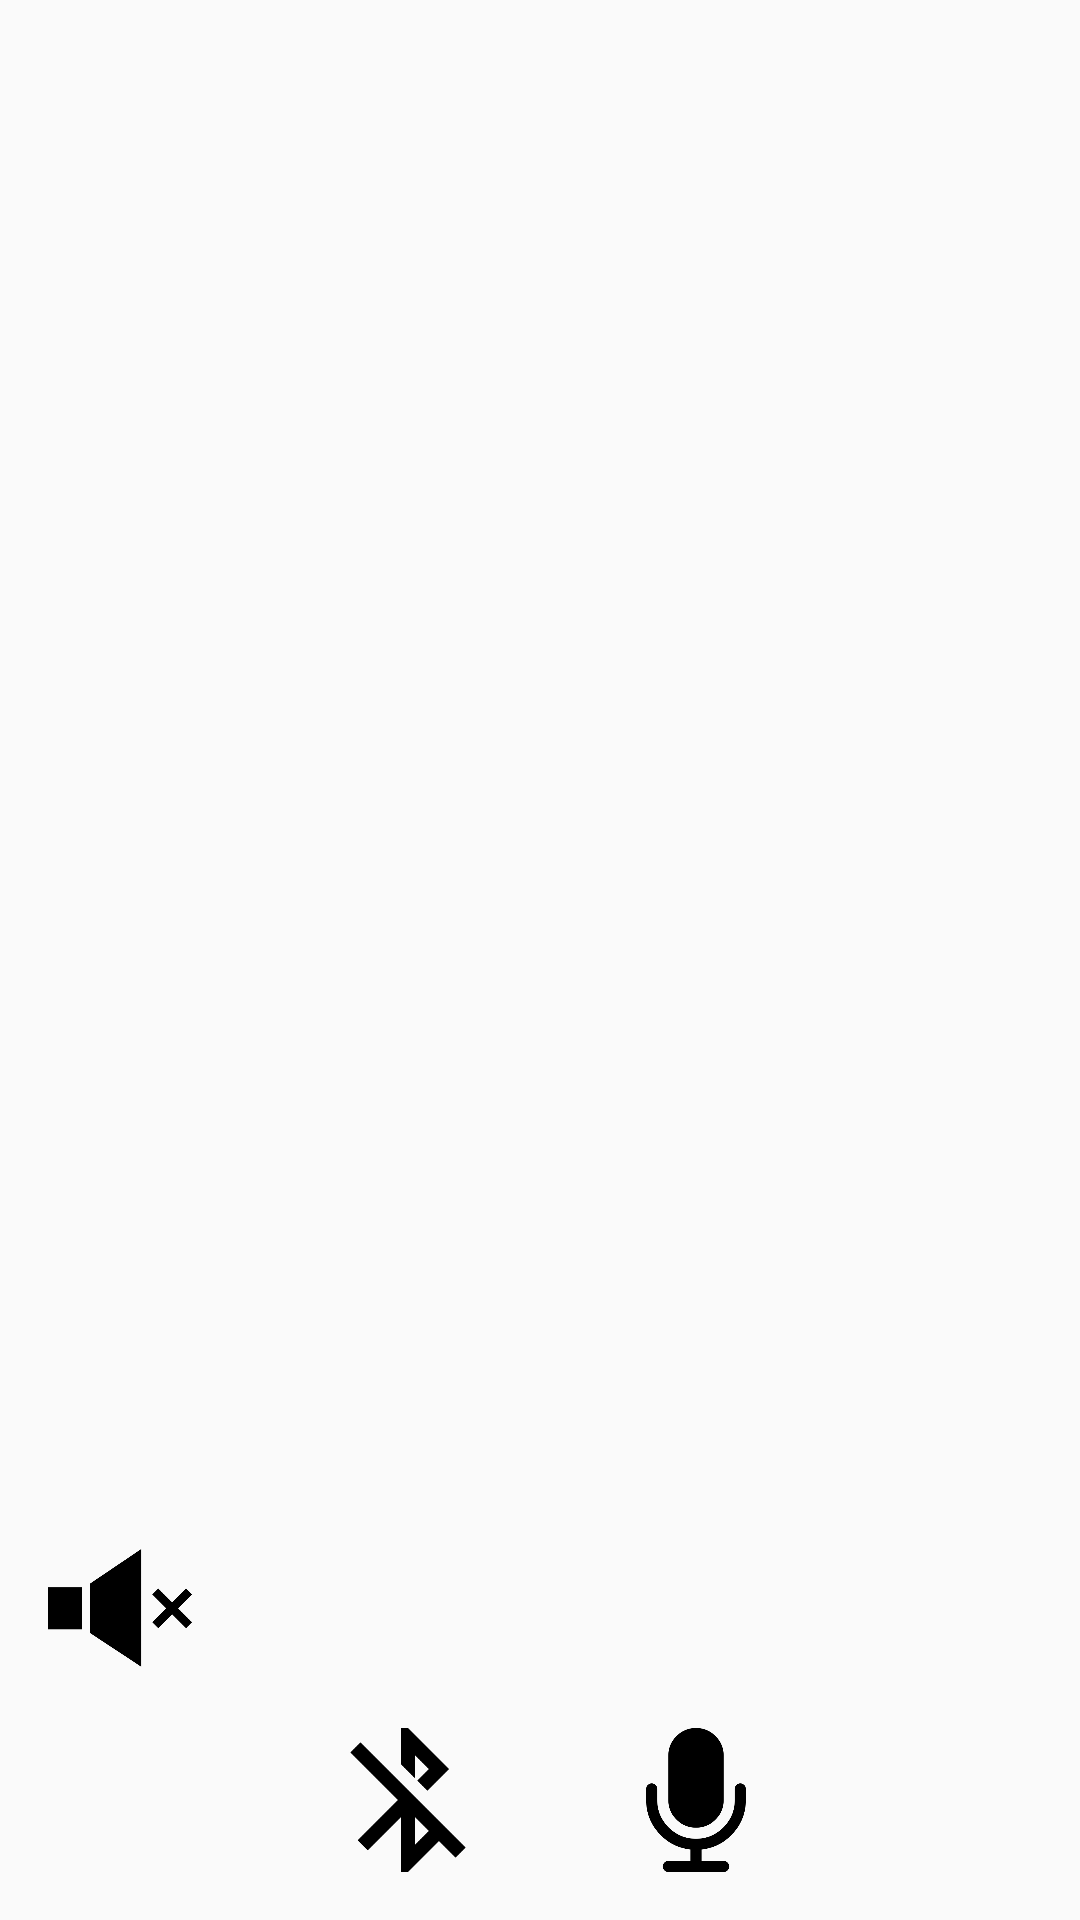

Named icons in this screenshot (1080px x 1920px) and their centers, (x=x, y=y):
mic on: (x=696, y=1800)
speaker mute: (x=120, y=1608)
